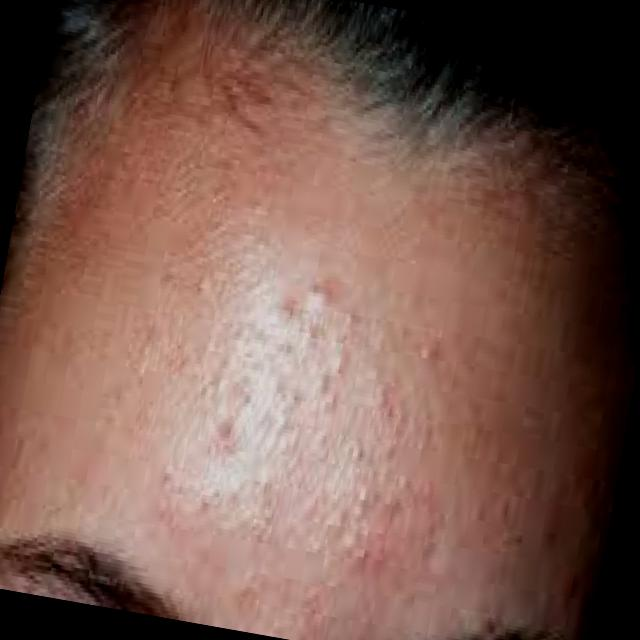fungal: (132, 172, 624, 622)
